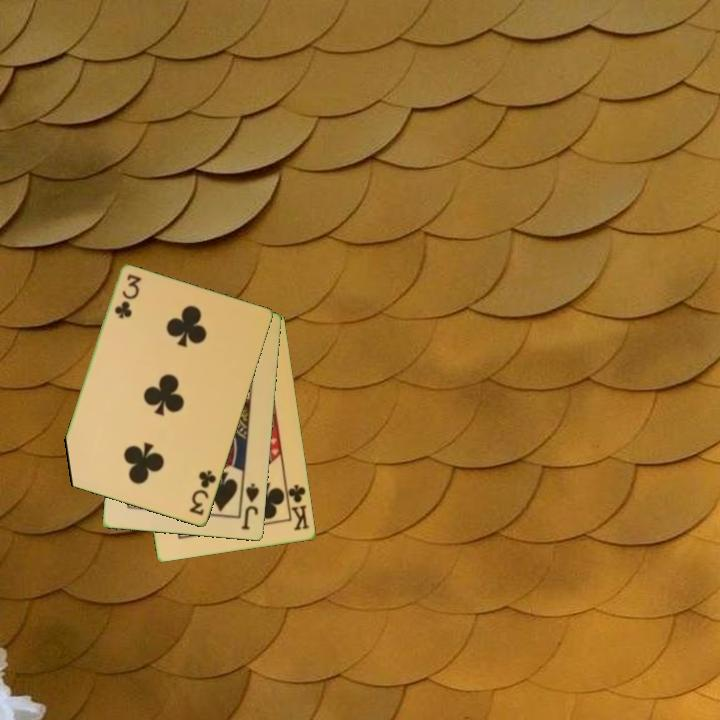3c: (186, 467, 219, 519), (111, 270, 143, 322)
Js: (238, 480, 262, 533)
Kc: (283, 481, 313, 534)
